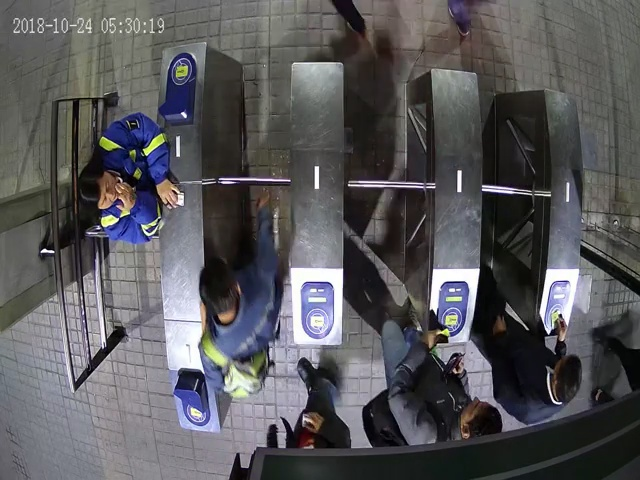Chaleco_azul: (77, 112, 179, 243)
